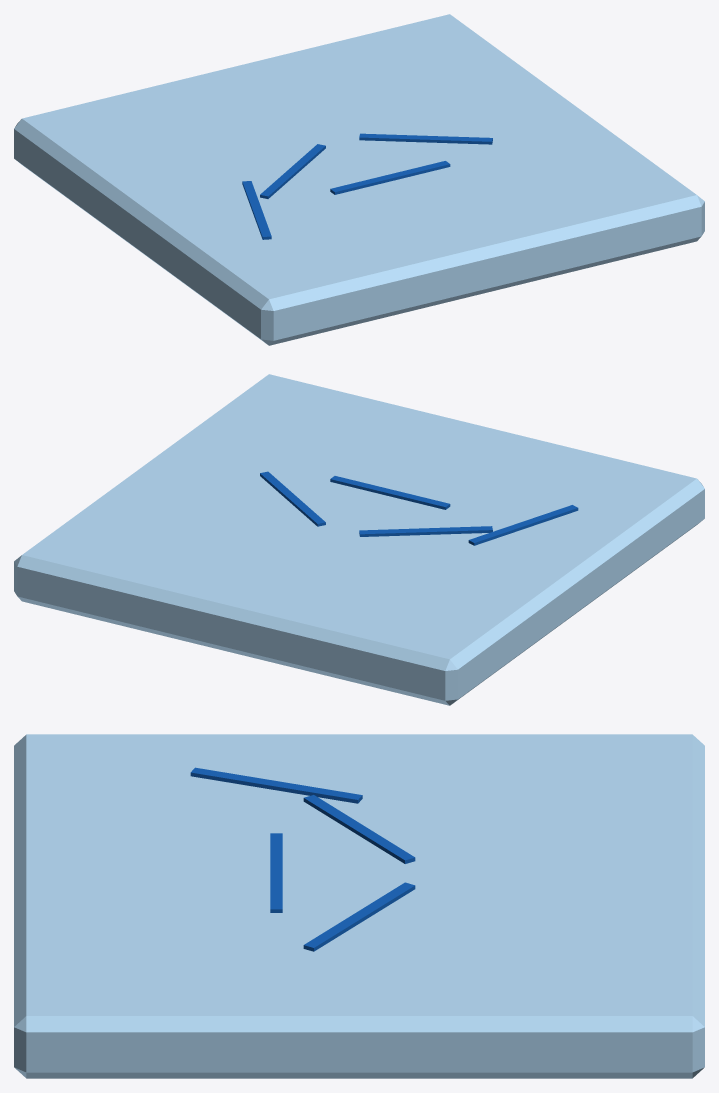
File: Tile_Ice_CrackLarge_v001.fbx
3 renders of one model, top to bottom at view 1: azimuth 30°, elevation 25°; view 2: azimuth 150°, elevation 25°; view 3: azimuth 270°, elevation 25°, orthographic. The views are drawn at different scales.
Visible parts, largest first — view 1: Tile, Crack, Crack.001, Crack.002, Crack.003; view 2: Tile, Crack.002, Crack.001, Crack.003, Crack; view 3: Tile, Crack.003, Crack, Crack.002, Crack.001.
Part boxes in pixels (bbox=[...]): Tile: bbox=[14, 14, 704, 345]; Crack: bbox=[359, 133, 492, 144]; Crack.001: bbox=[330, 161, 450, 194]; Crack.002: bbox=[260, 144, 325, 198]; Crack.003: bbox=[242, 181, 271, 239]; Tile: bbox=[14, 374, 704, 705]; Crack.002: bbox=[359, 526, 492, 536]; Crack.001: bbox=[330, 476, 450, 509]; Crack.003: bbox=[468, 505, 578, 545]; Crack: bbox=[260, 471, 325, 526]; Tile: bbox=[14, 734, 704, 1078]; Crack.003: bbox=[190, 767, 362, 803]; Crack: bbox=[303, 882, 415, 951]; Crack.002: bbox=[303, 795, 415, 863]; Crack.001: bbox=[270, 833, 282, 912].
Bounding box in the file's own units: 100 × 10.6 × 100.
